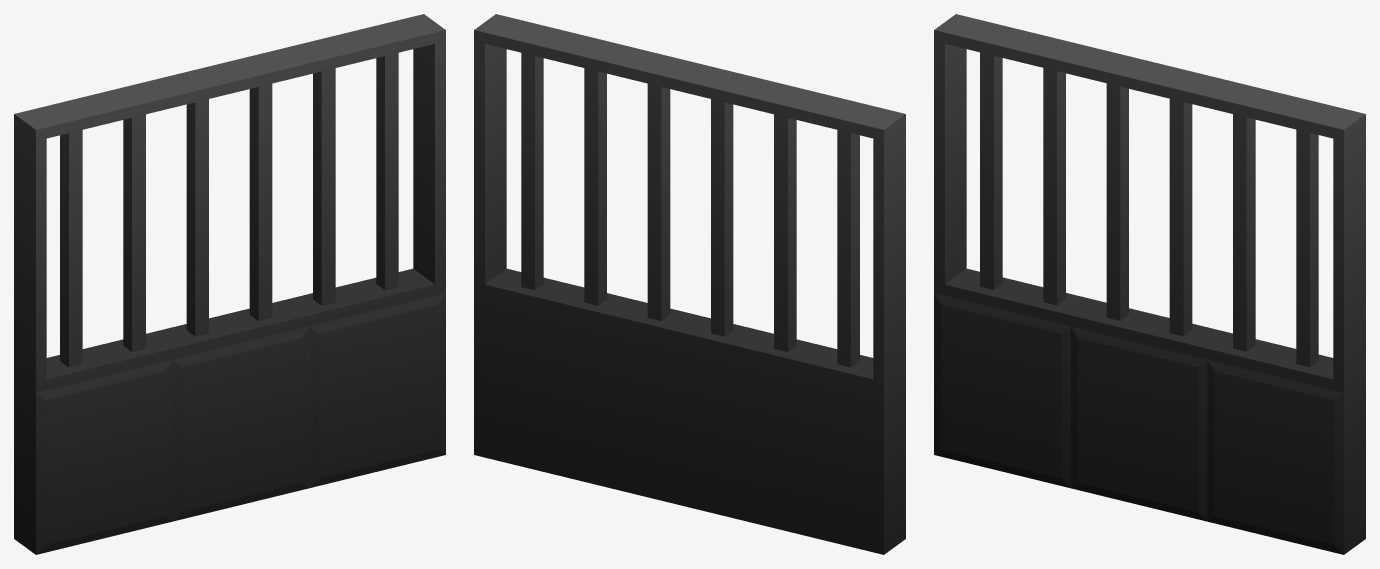
File: MiniGate2.fbx
3 views of the same model, side by side, from view 1: azimuth 30°, elevation 25°; view 2: azimuth 150°, elevation 25°; view 3: azimuth 330°, elevation 25° (orthographic).
Visible parts, largest first — view 1: MiniGate2_LOD0; view 2: MiniGate2_LOD0; view 3: MiniGate2_LOD0.
Boxes of the visible parts, left/top/right/bottom form: MiniGate2_LOD0: left=14, top=14, right=445, bottom=554; MiniGate2_LOD0: left=474, top=14, right=905, bottom=554; MiniGate2_LOD0: left=934, top=14, right=1365, bottom=554.
Size of what is drawn, in the model's own units: 135 by 134 by 13.18.
